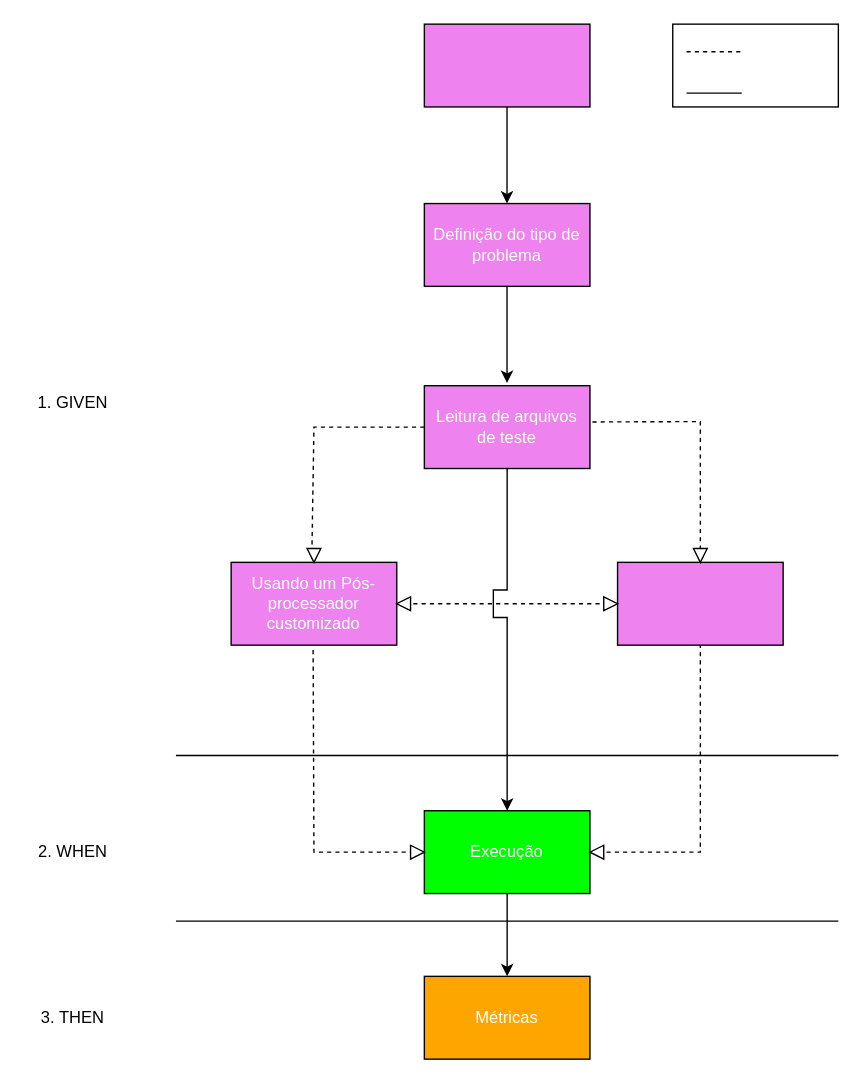
This 864x1083 diagram has some shape labels left out. Each missing label, with the centre of its shape:
Leitura de arquivos de modelos: (506,65)
Opcional Obrigatório: (754,65)
Usando um Pré-processador customizado: (699,603)
